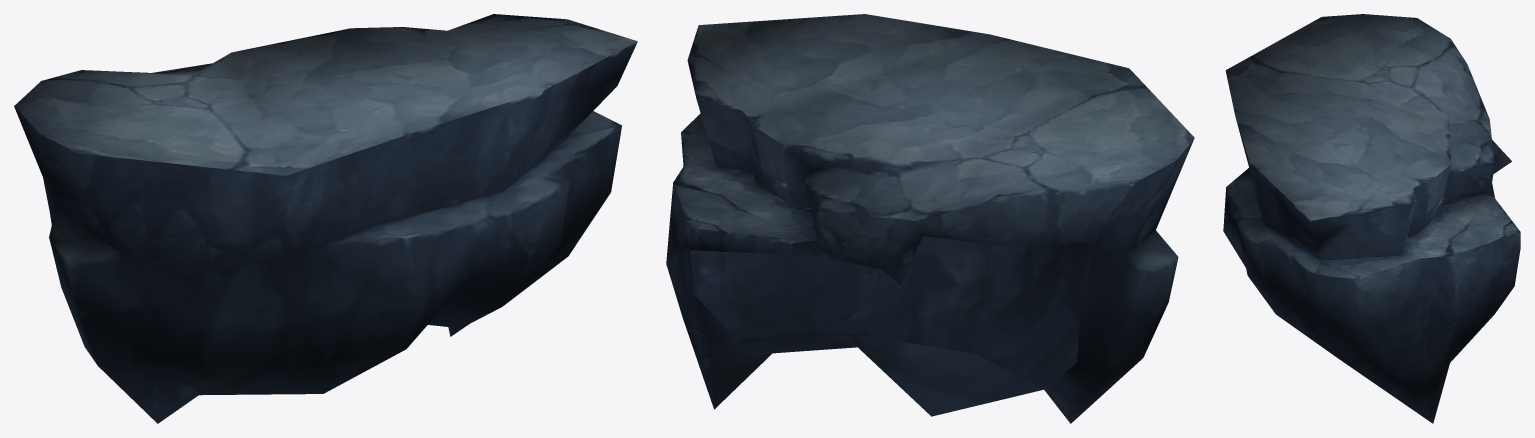
File: Area_01_14.fbx
3 views of the same model, side by side, from view 1: azimuth 30°, elevation 25°; view 2: azimuth 150°, elevation 25°; view 3: azimuth 270°, elevation 25° (orthographic). The views are drawn at different scales.
Parts seen in each view (by area): view 1: Area_01_14; view 2: Area_01_14; view 3: Area_01_14.
Boxes of the visible parts, x1,y1,x2,y2 form: Area_01_14: (14,14,637,423); Area_01_14: (666,14,1194,423); Area_01_14: (1223,14,1520,423).
Bounding box in the file's own units: 1994 × 1190 × 1280.
